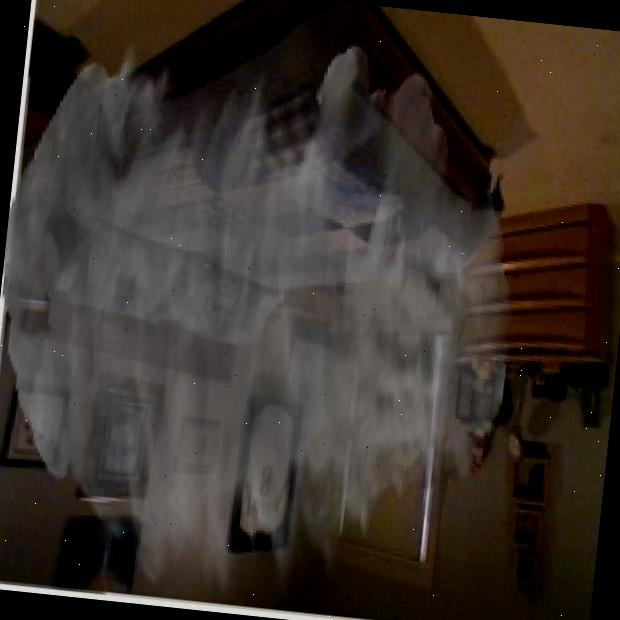smoke: (90, 170, 387, 540)
